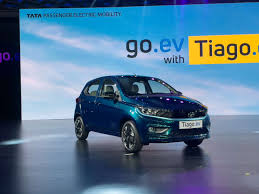Tiago: (72, 73, 213, 155)
